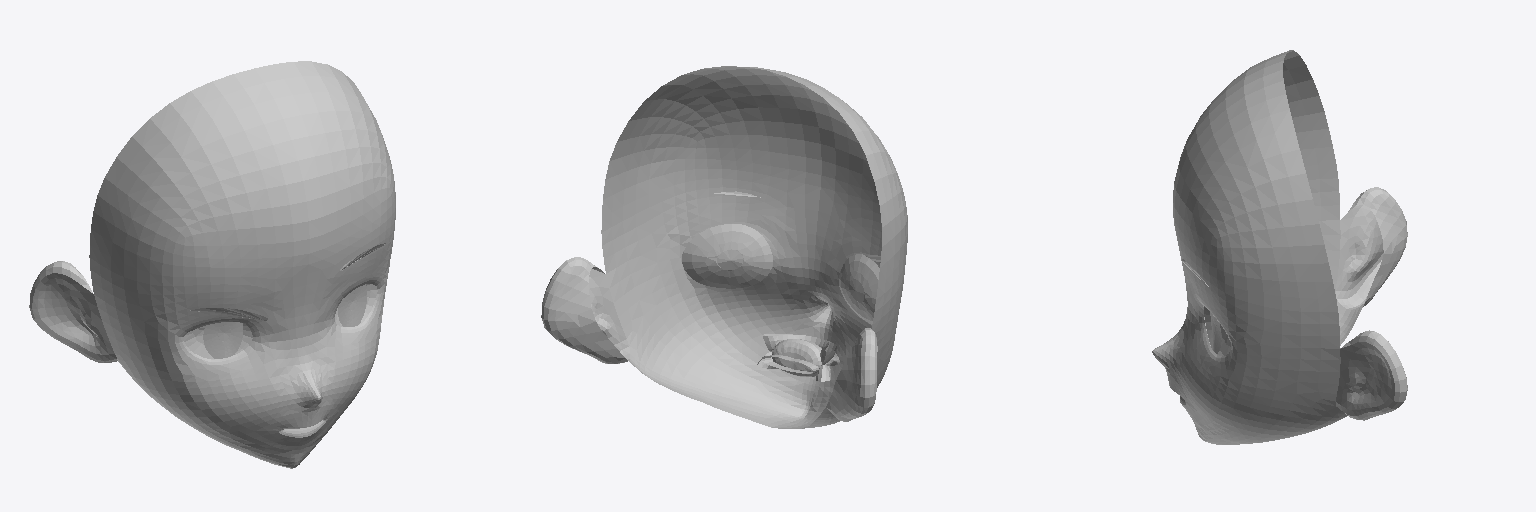
The model's file is browDownRight.obj.
3 views of the same model, side by side, from view 1: azimuth 30°, elevation 25°; view 2: azimuth 150°, elevation 25°; view 3: azimuth 270°, elevation 25° (orthographic).
Parts seen in each view (by area): view 1: Face; view 2: Face; view 3: Face.
Boxes of the visible parts, x1,y1,x2,y2 form: Face: [29, 61, 395, 468]; Face: [541, 66, 907, 428]; Face: [1152, 50, 1407, 444].
Size of the model in its own units: 0.2176 by 0.2333 by 0.1449.